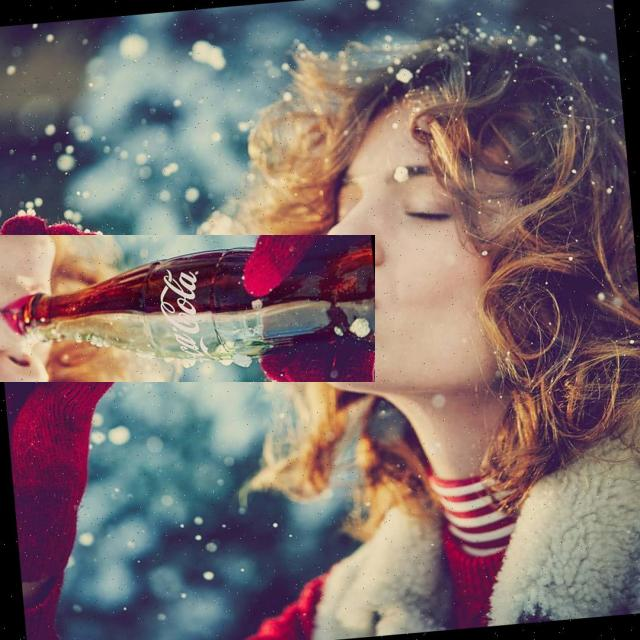coca-cola: (0, 235, 375, 382)
